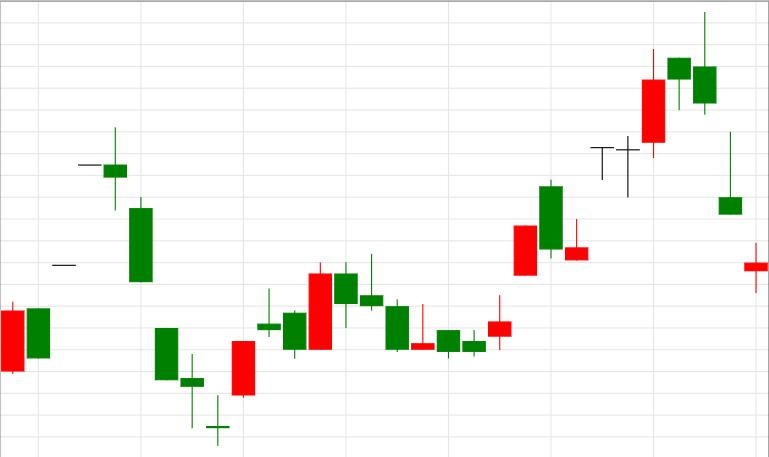shooting_star_fall: (488, 12, 716, 351)
